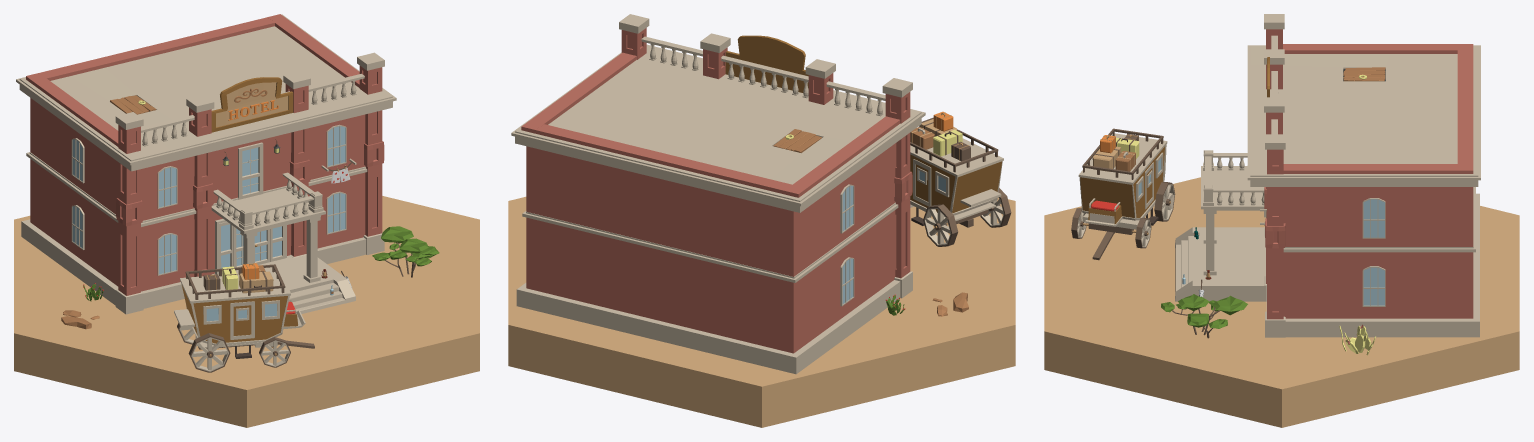
File: Tile_12.fbx
3 renders of one model, left to right at view 1: azimuth 30°, elevation 25°; view 2: azimuth 150°, elevation 25°; view 3: azimuth 270°, elevation 25°, orthographic. The views are drawn at different scales.
Visible parts, largest first — view 1: Tile_12_Building_Hotel, Tile_12_Base, Tile_12_Cart, Tile_12, Tile_12_Signboard_Hotel; view 2: Tile_12_Building_Hotel, Tile_12_Base, Tile_12_Cart, Tile_12_Signboard_Hotel, Tile_12; view 3: Tile_12_Building_Hotel, Tile_12_Base, Tile_12_Cart, Tile_12, Tile_12_Cactus.
Part boxes in pixels (<box>): Tile_12_Building_Hotel: <box>16,14,396,314</box>; Tile_12_Base: <box>14,196,479,427</box>; Tile_12_Cart: <box>174,264,314,372</box>; Tile_12: <box>61,226,439,329</box>; Tile_12_Signboard_Hotel: <box>211,77,293,132</box>; Tile_12_Building_Hotel: <box>511,14,925,374</box>; Tile_12_Base: <box>508,196,1015,427</box>; Tile_12_Cart: <box>910,117,1011,246</box>; Tile_12_Signboard_Hotel: <box>725,35,808,92</box>; Tile_12: <box>885,111,970,316</box>; Tile_12_Building_Hotel: <box>1175,14,1480,337</box>; Tile_12_Base: <box>1044,177,1519,427</box>; Tile_12_Cart: <box>1071,128,1175,260</box>; Tile_12: <box>1092,134,1247,338</box>; Tile_12_Cactus: <box>1339,324,1375,355</box>.
Size of the model in its own units: 2318 by 2007 by 1142.
